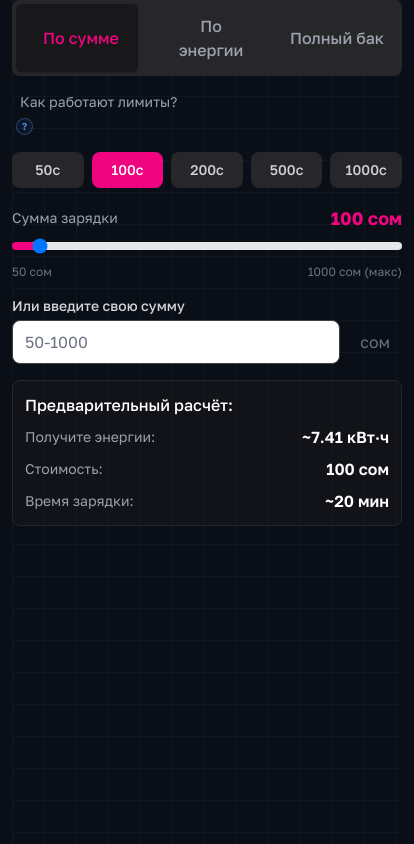
Test case: ChargingLimitsSelector › switches between modes correctly
The image size is (414, 844).
// Switch to energy mode
Click the button "По энергии" at (207, 38), box [146,4,268,72]
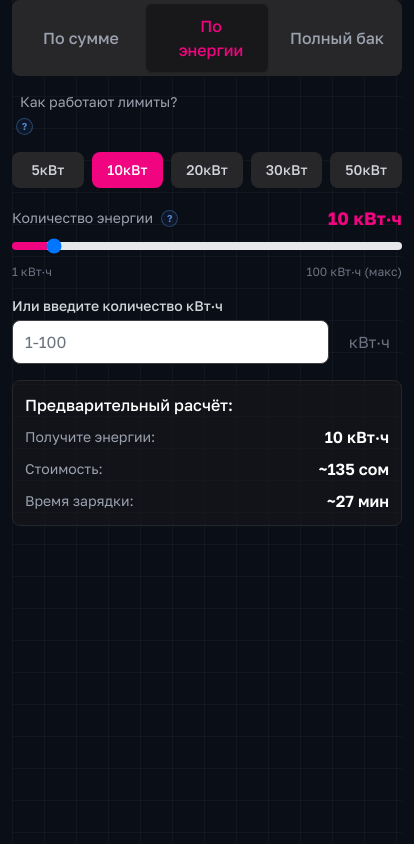
Expected: the text "Количество энергии" is shown, [12,209,153,226]
// Switch to full tank mode
Click the button "Полный бак" at (337, 38), box [276,4,398,72]
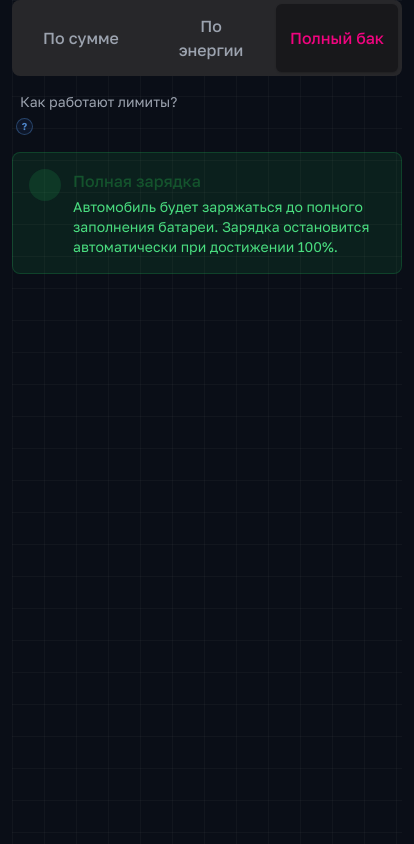
Expected: the heading "Полная зарядка" is shown, [73,171,201,191]
